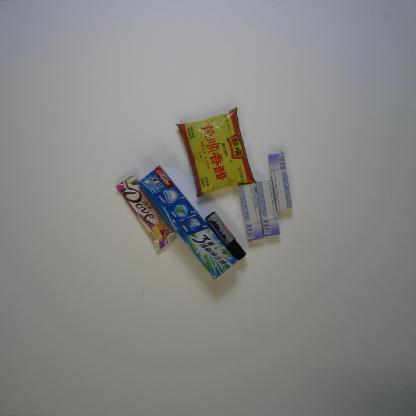Candy: (237, 182, 264, 242), (268, 150, 293, 212), (256, 178, 280, 237)
Chocolate: (114, 173, 178, 250)
Personal Hygiene: (138, 165, 238, 280)
Seasoner: (176, 107, 256, 198)
Stationery: (204, 211, 247, 261)
